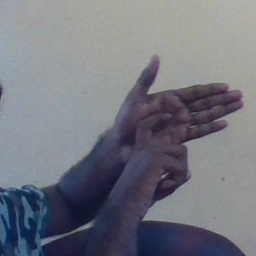R: (112, 52, 244, 202)
